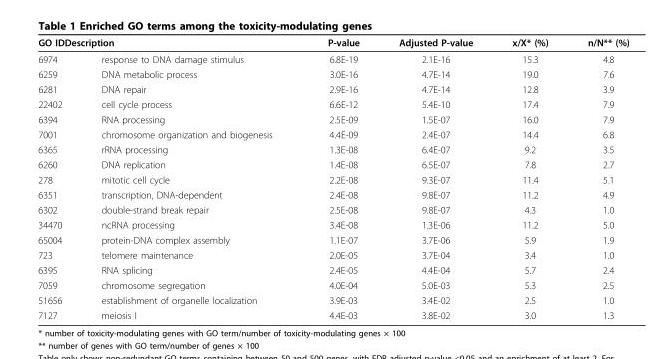table: (37, 36, 628, 320)
table column: (81, 36, 299, 320), (378, 36, 491, 320), (299, 36, 378, 320), (491, 36, 567, 320), (567, 36, 628, 320), (37, 36, 81, 320)
table column header: (37, 36, 628, 66)
table row: (37, 50, 628, 66), (37, 216, 628, 232), (37, 66, 628, 81), (37, 81, 628, 96), (37, 96, 628, 111), (37, 111, 628, 126), (37, 126, 628, 141), (37, 141, 628, 156), (37, 156, 628, 171), (37, 171, 628, 186), (37, 186, 628, 201), (37, 201, 628, 216), (37, 232, 628, 247), (37, 247, 628, 262), (37, 262, 628, 277), (37, 277, 628, 292), (37, 292, 628, 307), (37, 36, 628, 50), (37, 307, 628, 320)
table spanning cell: (37, 36, 299, 50), (378, 36, 491, 66), (299, 36, 378, 66), (491, 36, 567, 66), (567, 36, 628, 66)
